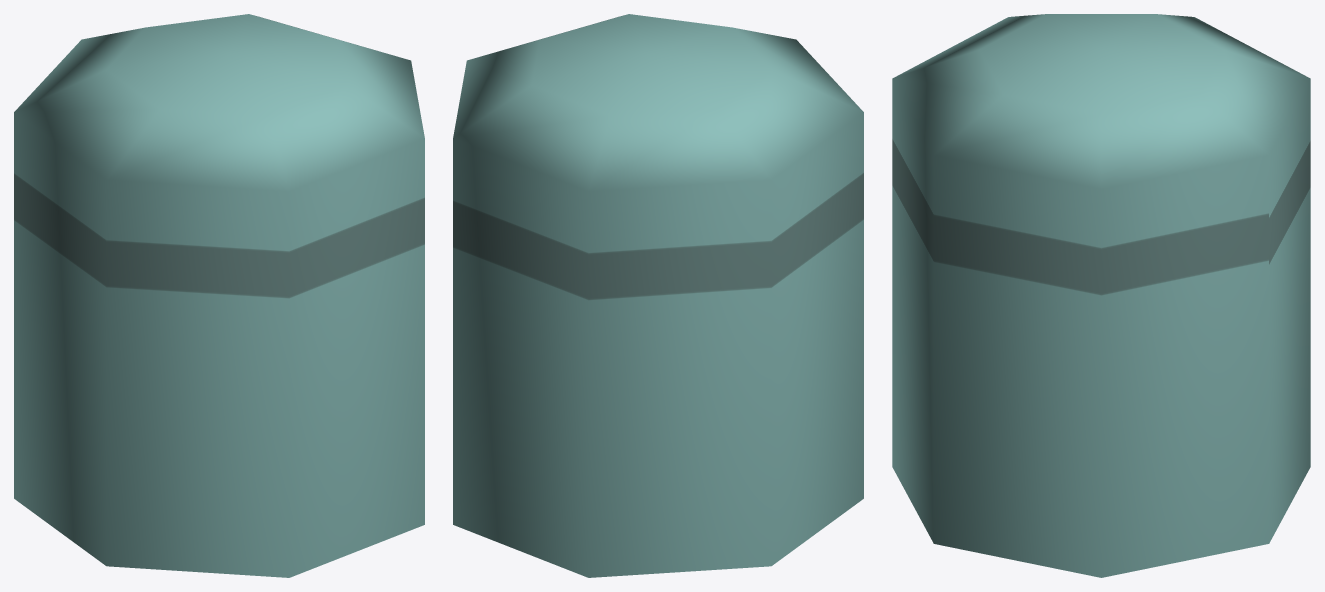
The model's file is fence004.fbx.
The picture shows the model from 3 angles, left to right: view 1: azimuth 30°, elevation 25°; view 2: azimuth 150°, elevation 25°; view 3: azimuth 270°, elevation 25°; orthographic projection.
Parts seen in each view (by area): view 1: TODOS:bolsaBasura:cilindroConcreto1:pCylinder2; view 2: TODOS:bolsaBasura:cilindroConcreto1:pCylinder2; view 3: TODOS:bolsaBasura:cilindroConcreto1:pCylinder2.
Boxes of the visible parts, x1=… form: TODOS:bolsaBasura:cilindroConcreto1:pCylinder2: x1=14, y1=14, x2=424, y2=577; TODOS:bolsaBasura:cilindroConcreto1:pCylinder2: x1=453, y1=14, x2=863, y2=577; TODOS:bolsaBasura:cilindroConcreto1:pCylinder2: x1=892, y1=14, x2=1310, y2=577.
Bounding box in the file's own units: 1.69 × 2.01 × 1.73.
